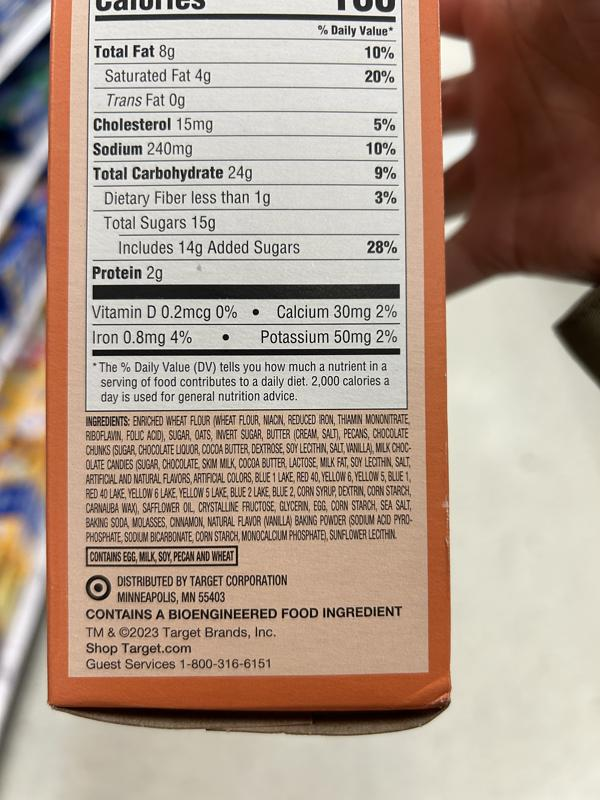ingredients: (82, 412, 415, 545)
